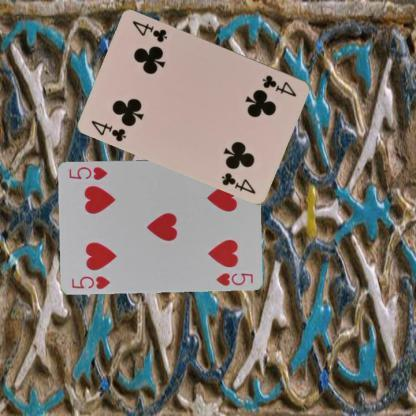4c: (260, 72, 298, 98), (89, 118, 128, 142)
5h: (70, 272, 112, 290)
